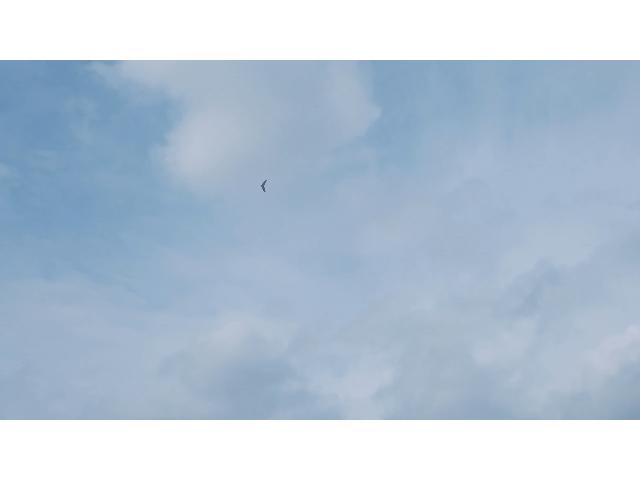Anti-Drone: (260, 178, 268, 196)
